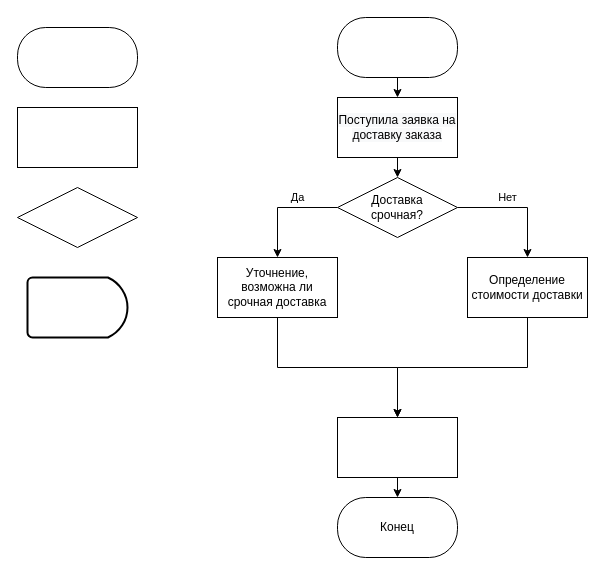
This 605x575 diagram has some shape labels left out. Here are the shapes that lost their labels. From the top down, the centre of each, then its label:
At pixel 397 47: "Начало".
At pixel 397 447: "Согласованные с покупателем стоимость и дата доставки".
